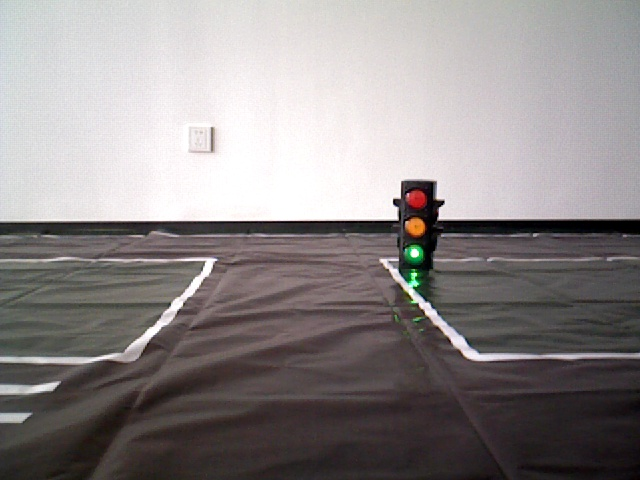green: (403, 185, 427, 264)
